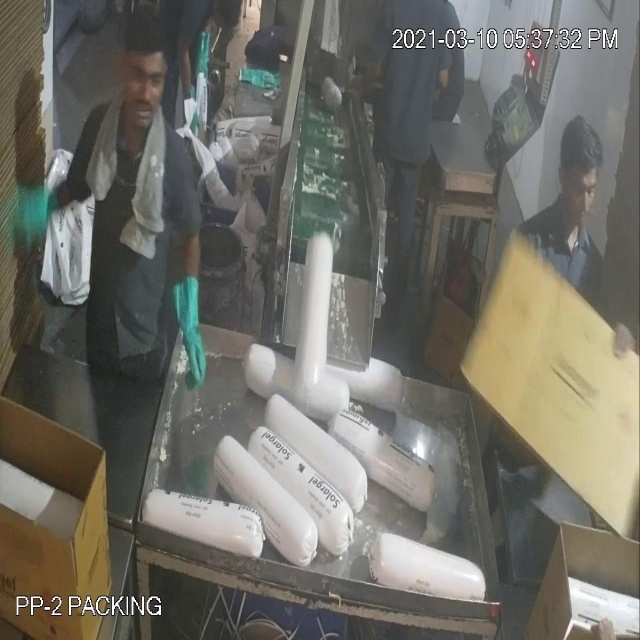Guantes: (168, 258, 216, 415)
